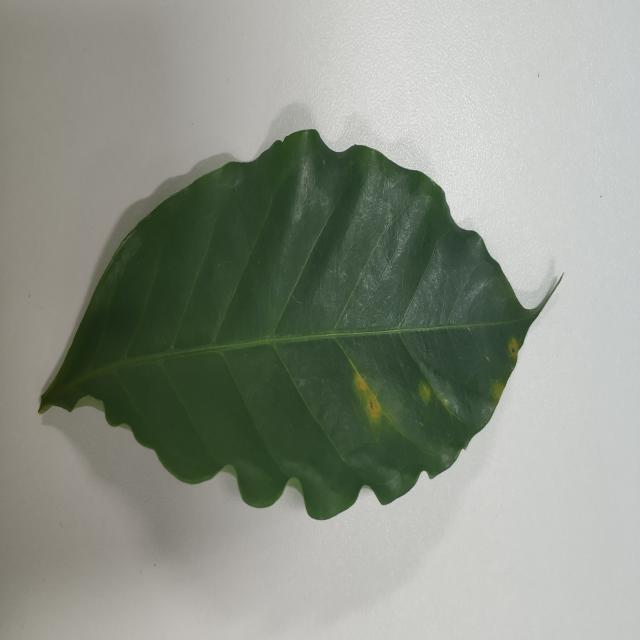Enfermedad-Roya: (38, 129, 561, 523)
